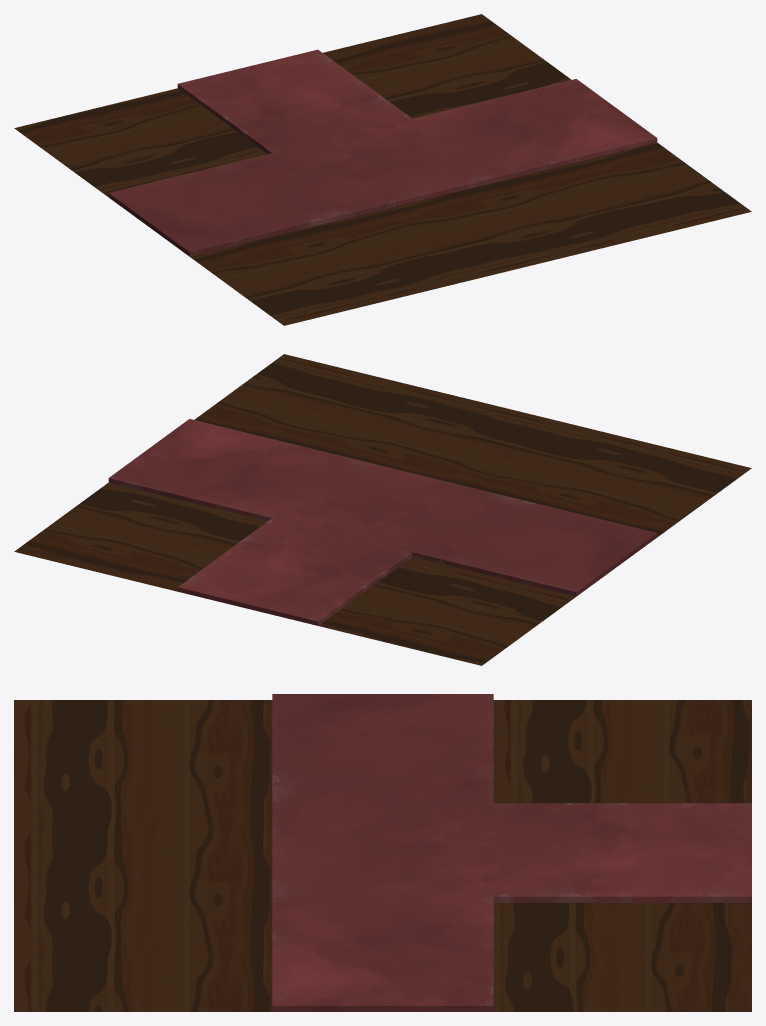
The model's file is floor_T.fbx.
3 views of the same model, one above another, from view 1: azimuth 30°, elevation 25°; view 2: azimuth 150°, elevation 25°; view 3: azimuth 270°, elevation 25° (orthographic). The views are drawn at different scales.
Parts seen in each view (by area): view 1: floor_T; view 2: floor_T; view 3: floor_T.
Part boxes in pixels (x1,y1,x2,y2): floor_T: (14,14,751,325); floor_T: (14,354,751,665); floor_T: (14,694,751,1011).
Bounding box in the file's own units: 1650 × 15 × 1650.
1 material, 1 textured.
